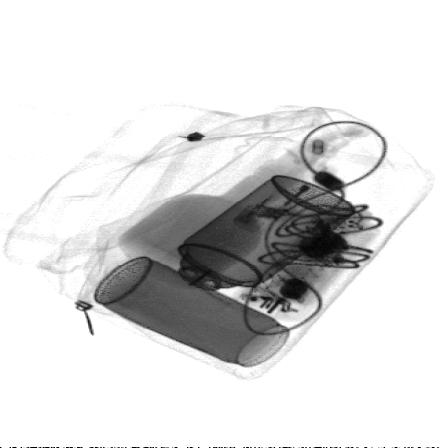Lighter: (235, 173, 320, 235)
Sprayer: (143, 176, 357, 316)
